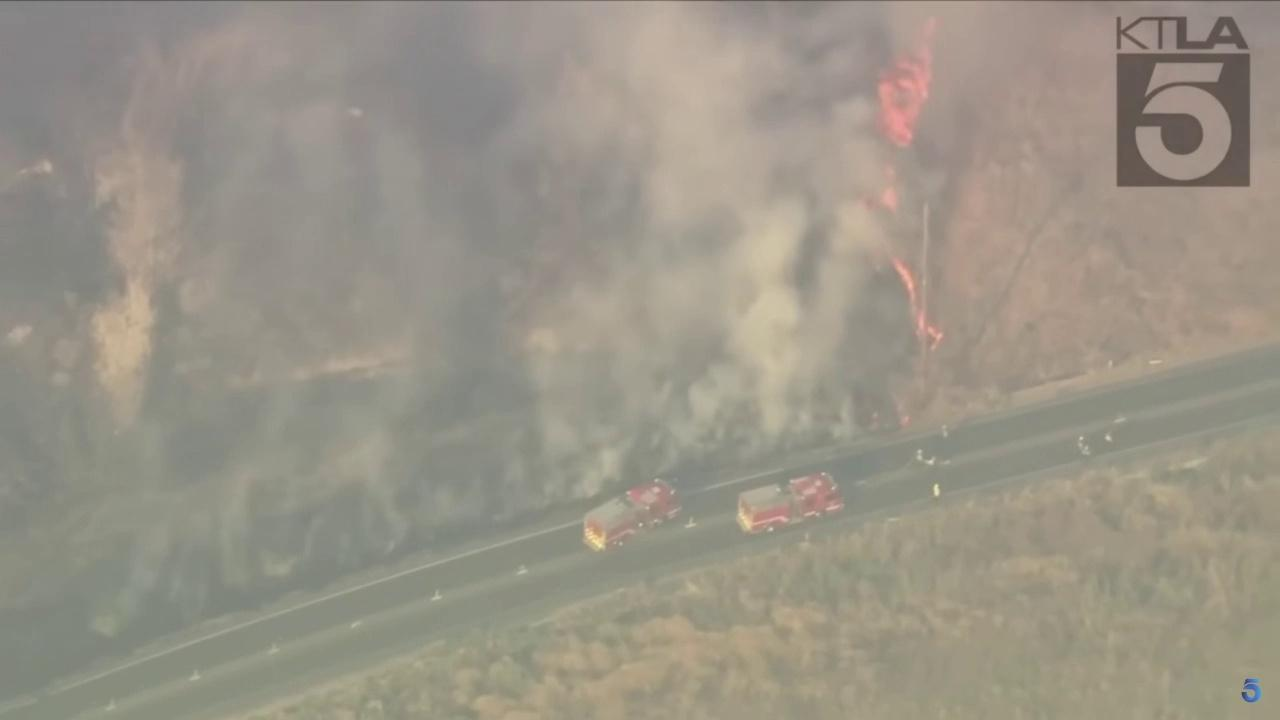fire: (877, 14, 939, 149), (891, 256, 945, 356), (877, 165, 905, 217), (897, 415, 911, 428)
smoke: (0, 0, 971, 633)
